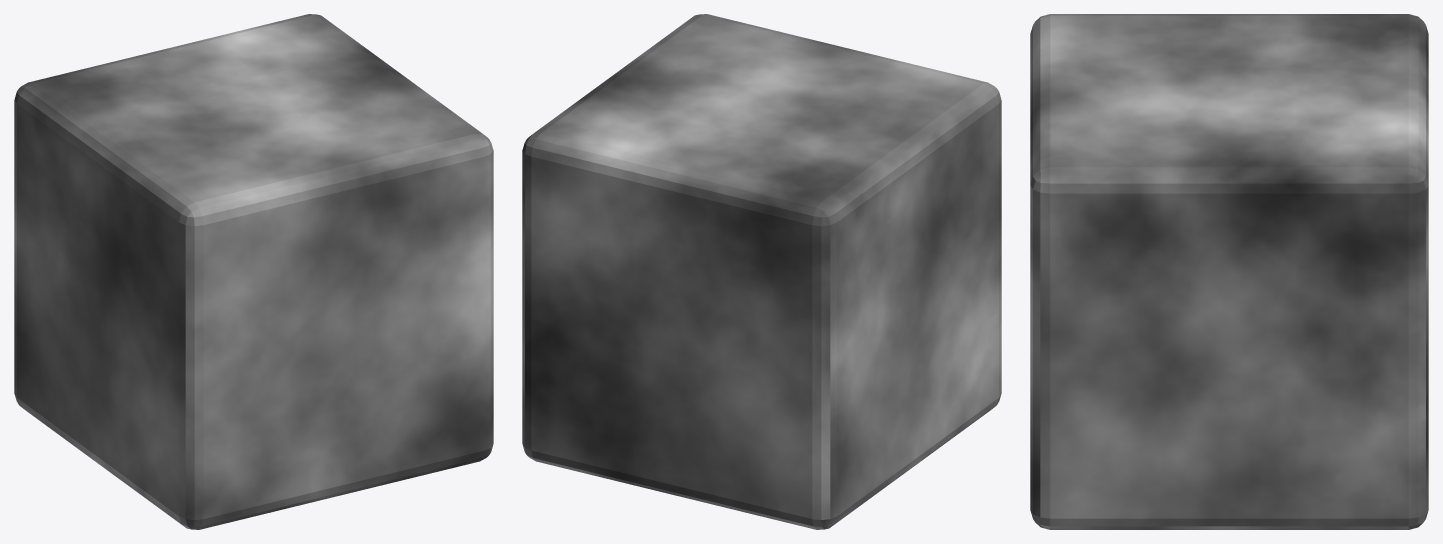
The model's file is brick.fbx.
The picture shows the model from 3 angles, left to right: view 1: azimuth 30°, elevation 25°; view 2: azimuth 150°, elevation 25°; view 3: azimuth 270°, elevation 25°; orthographic projection. The views are drawn at different scales.
Visible parts, largest first — view 1: Cube; view 2: Cube; view 3: Cube.
Boxes of the visible parts, x1,y1,x2,y2 form: Cube: (14,14,493,529); Cube: (522,14,1001,529); Cube: (1030,14,1428,529).
Bounding box in the file's own units: 200 × 200 × 200.
